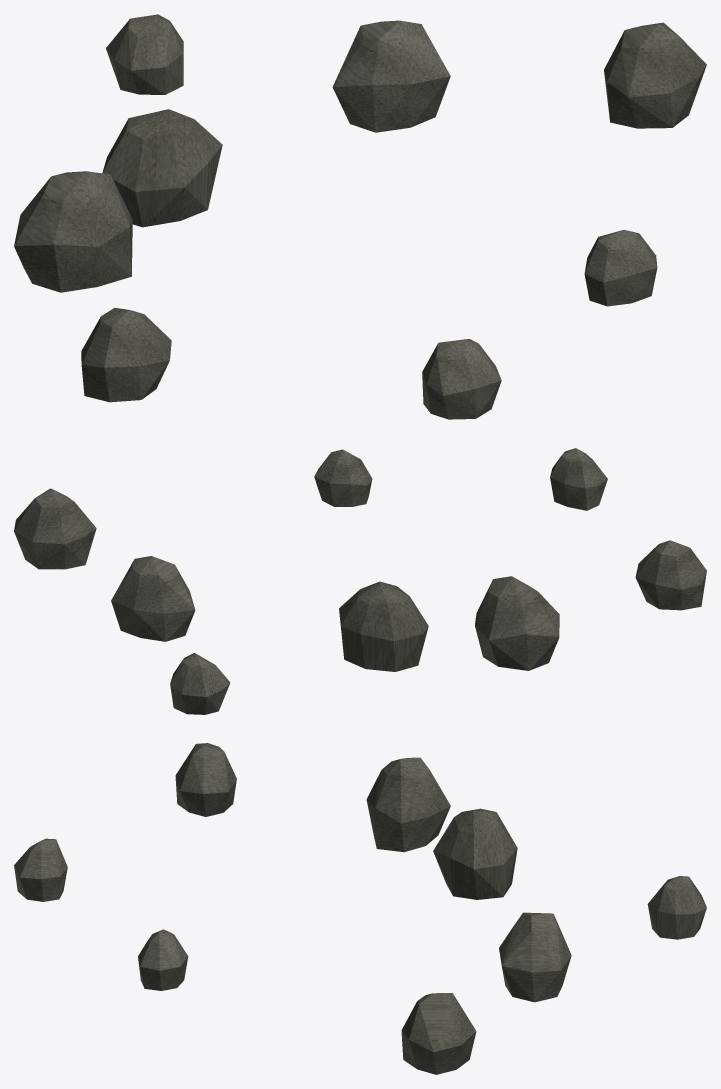
Rendered from env_rocks_06_pebble_scatter.glb.
The picture shows the model from 3 angles, top to bottom: view 1: azimuth 30°, elevation 25°; view 2: azimuth 150°, elevation 25°; view 3: azimuth 270°, elevation 25°; orthographic projection. The views are drawn at different scales.
Visible parts, largest first — view 1: solid; view 2: solid; view 3: solid.
Boxes of the visible parts, <box> form: solid: <box>14,14,706,419</box>; solid: <box>14,448,706,714</box>; solid: <box>14,743,706,1074</box>.
Bounding box in the file's own units: 0.99 × 0.1247 × 0.9948.
Materials: 1 (1 with a texture image).
